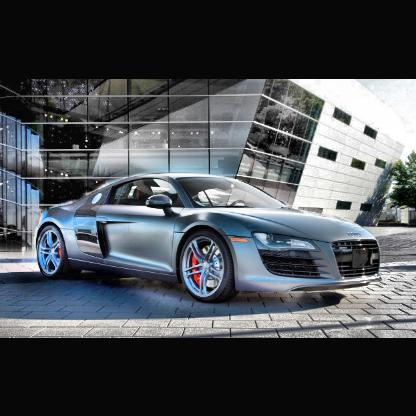Audi R8 Coupe 2012: (37, 172, 382, 304)
